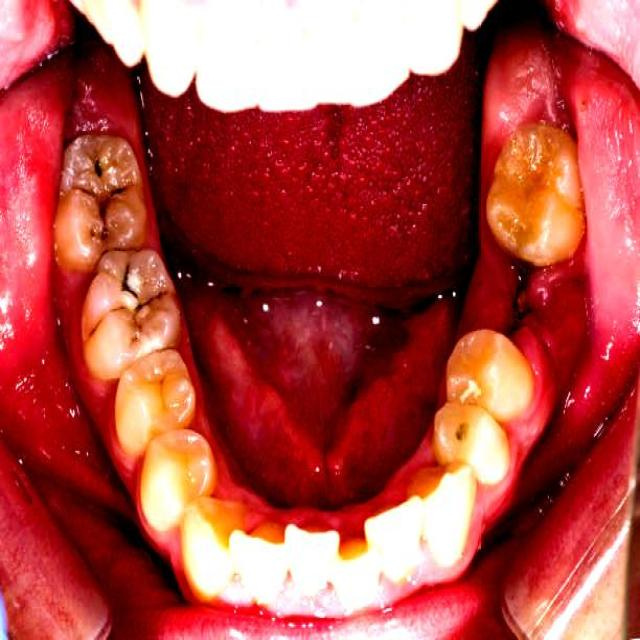caries: (90, 254, 172, 351), (66, 147, 134, 243), (446, 409, 484, 451)
